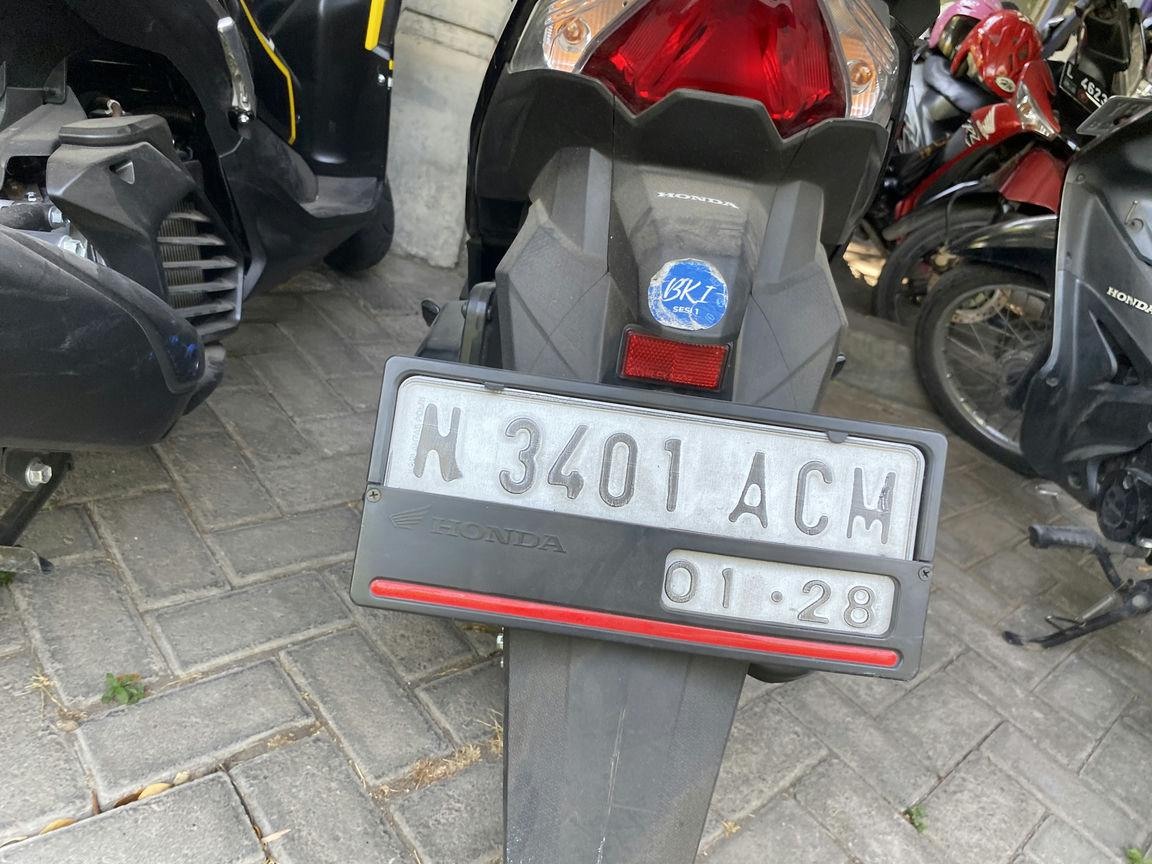plat: (351, 356, 945, 682)
